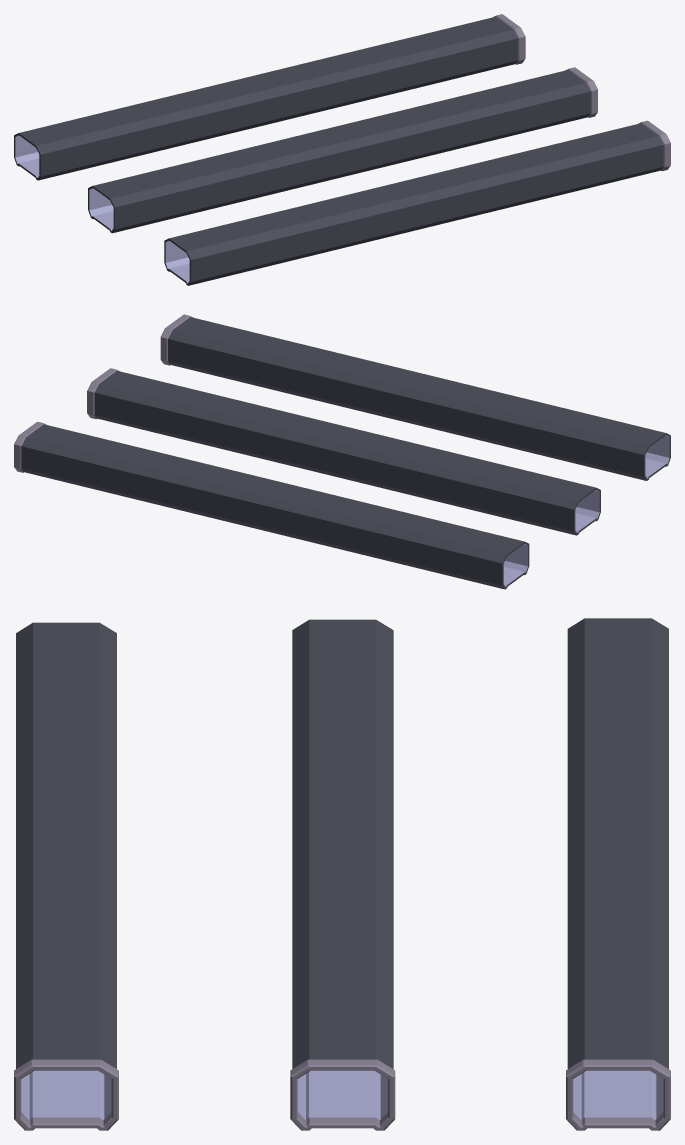
The model's file is tunnels.fbx.
3 views of the same model, one above another, from view 1: azimuth 30°, elevation 25°; view 2: azimuth 150°, elevation 25°; view 3: azimuth 270°, elevation 25° (orthographic). The views are drawn at different scales.
Parts seen in each view (by area): view 1: Cube.002, Cube, Cube.003; view 2: Cube.002, Cube, Cube.003; view 3: Cube.002, Cube, Cube.003.
Part boxes in pixels (x1=…): Cube.002: x1=14, y1=14, x2=525, y2=180; Cube: x1=88, y1=67, x2=597, y2=233; Cube.003: x1=164, y1=120, x2=670, y2=285; Cube.002: x1=14, y1=421, x2=529, y2=589; Cube: x1=87, y1=368, x2=600, y2=535; Cube.003: x1=160, y1=314, x2=670, y2=480; Cube.002: x1=566, y1=618, x2=670, y2=1130; Cube: x1=290, y1=619, x2=395, y2=1130; Cube.003: x1=14, y1=622, x2=118, y2=1130.
Size of the model in its own units: 10797 by 738 by 6679.
